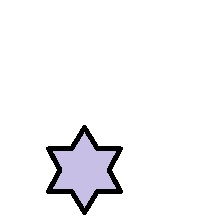star: (45, 125, 123, 216)
